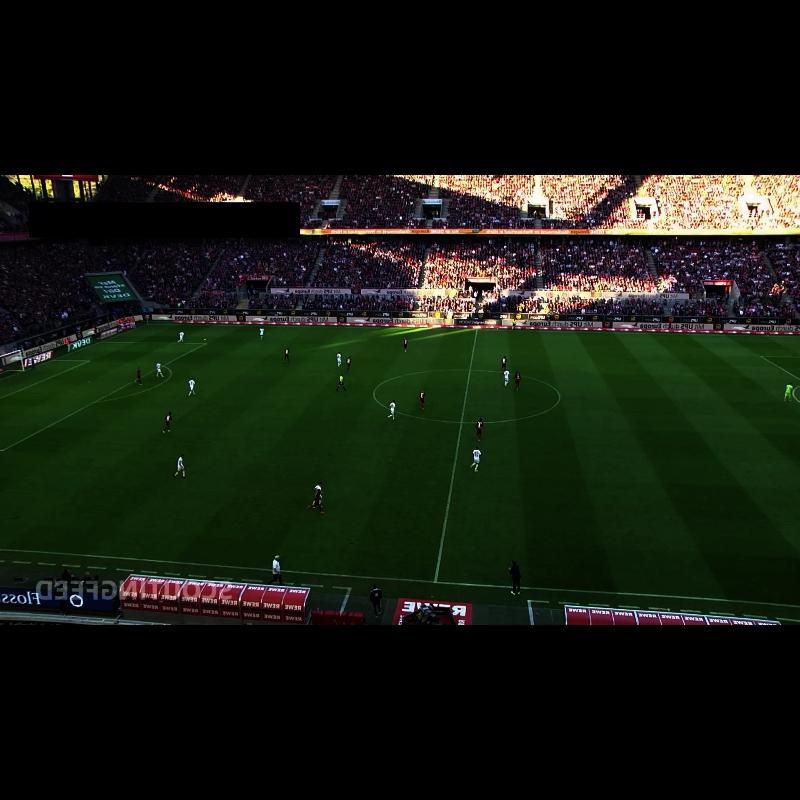cross_recipient_zone: (0, 342, 206, 450), (762, 356, 800, 379)
crossing_player_zone: (0, 450, 125, 549), (103, 324, 310, 344), (650, 334, 800, 356)
pitch: (0, 324, 800, 606)
